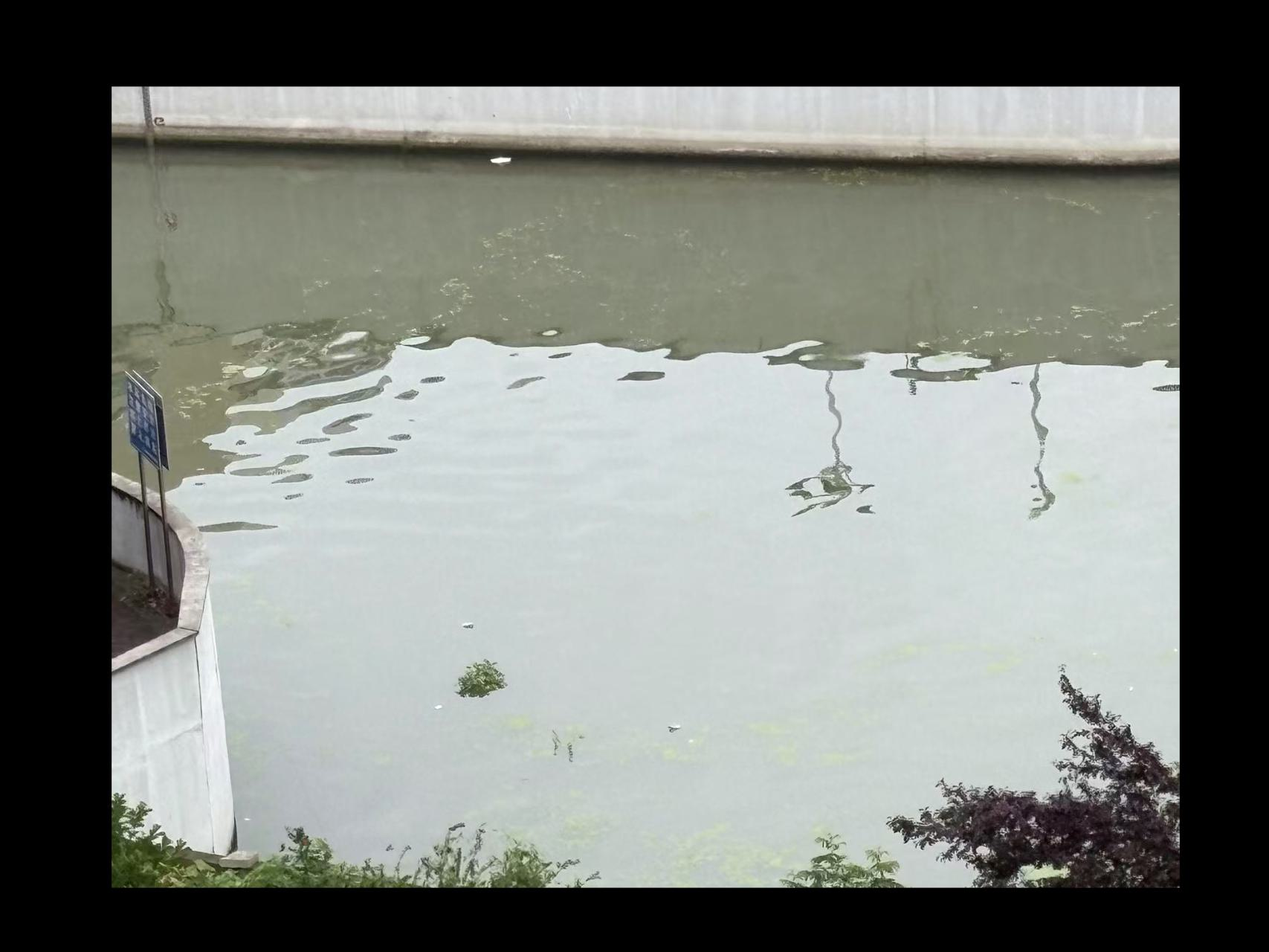Natural wastes: (459, 663, 507, 696)
Plastic wastes: (491, 152, 513, 164), (665, 722, 680, 731), (459, 620, 474, 627), (433, 704, 443, 709)
